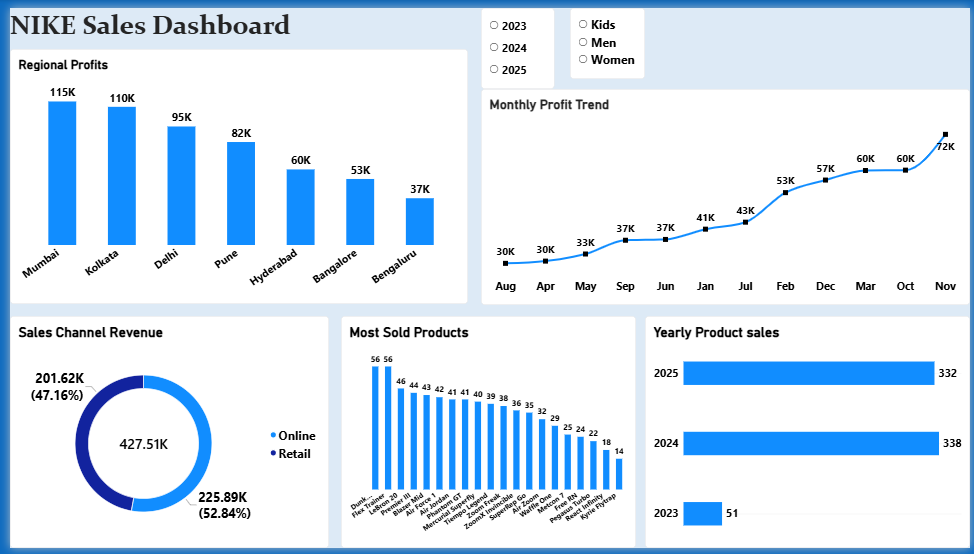

This screenshot's page, from the dashboard's own definition file:
{"tool":"powerbi","page":{"name":"Page 1","canvas":[1920,1080],"ordinal":0},"visuals":[{"type":"columnChart","title":"Regional Profits","fields":{"Category":["Nike_Sales_Uncleaned.Region"],"Y":["Sum(Nike_Sales_Uncleaned.Profit)"]},"box":[0,82,916,510],"z":0},{"type":"donutChart","title":"Sales Channel Revenue","fields":{"Category":["Nike_Sales_Uncleaned.Sales_Channel"],"Y":["Sum(Nike_Sales_Uncleaned.Revenue)"]},"box":[0,616,638,464],"z":1000},{"type":"textbox","box":[0,0,941.8,110.6],"z":1001},{"type":"lineChart","title":"Monthly Profit Trend","fields":{"Category":["Nike_Sales_Uncleaned.Month Name"],"Y":["Sum(Nike_Sales_Uncleaned.Profit)"]},"box":[942,162,978,431.6],"z":1002},{"type":"columnChart","title":"Most Sold Products","fields":{"Category":["Nike_Sales_Uncleaned.Product_Name"],"Y":["Sum(Nike_Sales_Uncleaned.Units_Sold)"]},"box":[662,616,590,464],"z":1003},{"type":"clusteredBarChart","title":"Yearly Product sales","fields":{"Category":["Nike_Sales_Uncleaned.Year"],"Y":["Sum(Nike_Sales_Uncleaned.Units_Sold)"]},"box":[1270,616,650,464],"z":1004},{"type":"listSlicer","fields":{"Values":["Nike_Sales_Uncleaned.Year"]},"box":[941.7,0,146.7,161.7],"z":1006},{"type":"listSlicer","title":"Gender","fields":{"Values":["Nike_Sales_Uncleaned.Gender_Category"]},"box":[1120,0,150,142],"z":1007}]}

Visuals, with their boxes in screenshot pixels (x1, y1, x2, y2), scaled from the page's 1920x1080 canvas onto the 974x554 screenshot:
"Regional Profits" columnChart: BBox(0, 42, 465, 304)
"Sales Channel Revenue" donutChart: BBox(0, 316, 324, 553)
textbox: BBox(0, 0, 478, 57)
"Monthly Profit Trend" lineChart: BBox(478, 83, 973, 304)
"Most Sold Products" columnChart: BBox(336, 316, 635, 553)
"Yearly Product sales" clusteredBarChart: BBox(644, 316, 973, 553)
listSlicer - Nike_Sales_Uncleaned.Year: BBox(478, 0, 552, 83)
"Gender" listSlicer: BBox(568, 0, 644, 73)
